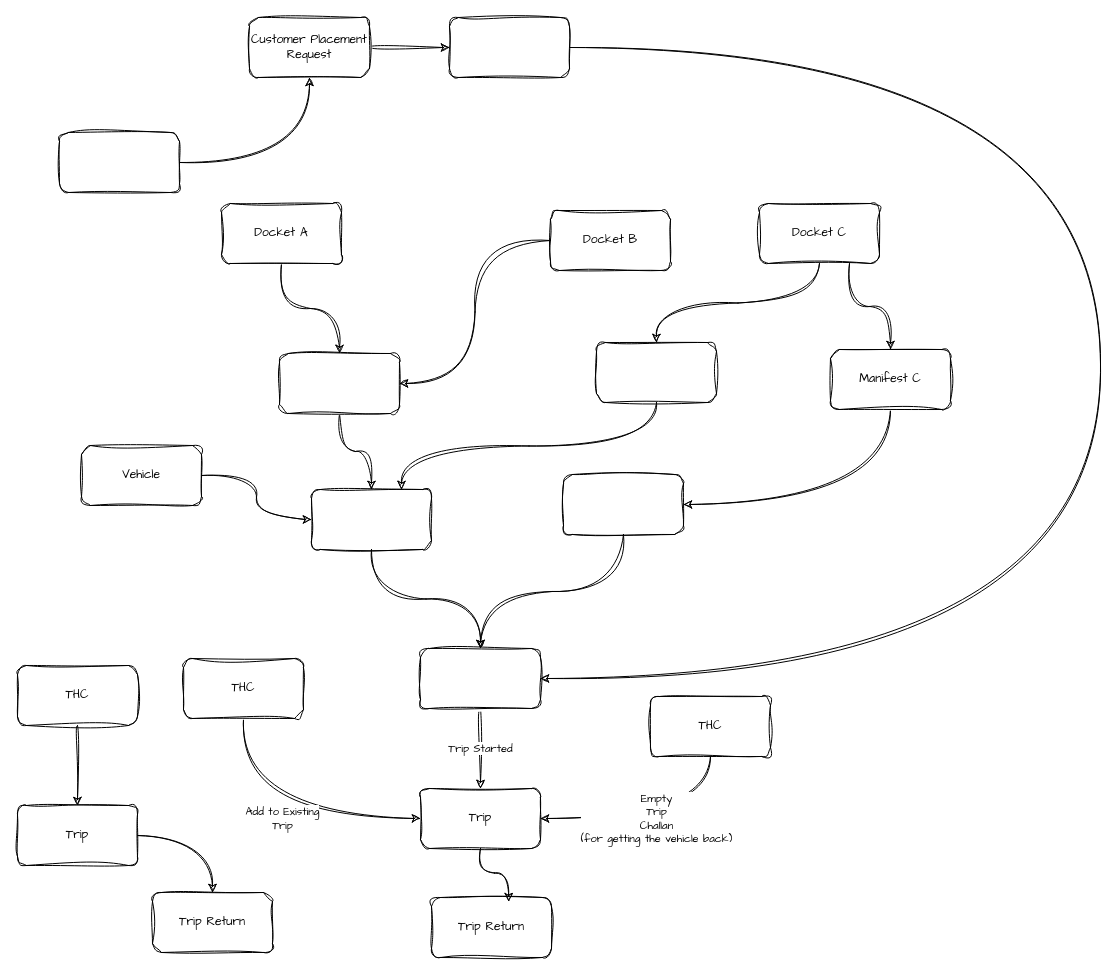
This 1119x975 diagram has some shape labels left out. Here are the shapes that lost their labels. From the top down, the box of each, then its label:
(448, 16, 570, 78): Vehicle Placement
(58, 132, 180, 192): BID + Survey (ODC)
(278, 352, 400, 414): Manifest A
(596, 342, 716, 402): Manifest B
(310, 488, 432, 550): THC A
(562, 474, 684, 534): THC B
(420, 648, 540, 708): Trip Hire Charge (THC) or Challan or Leg
